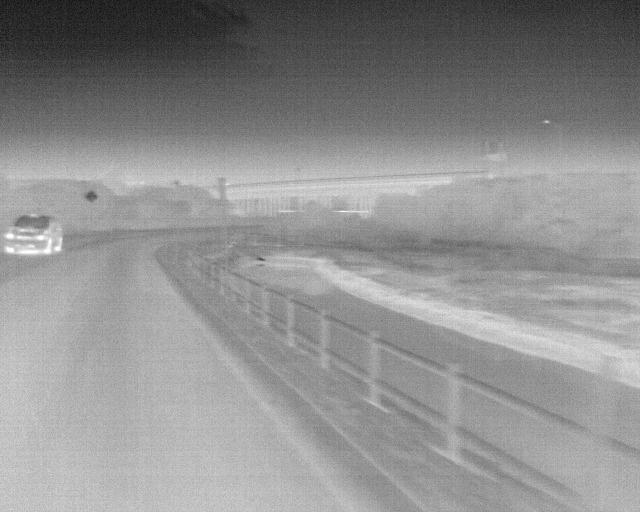car: (3, 213, 65, 253)
